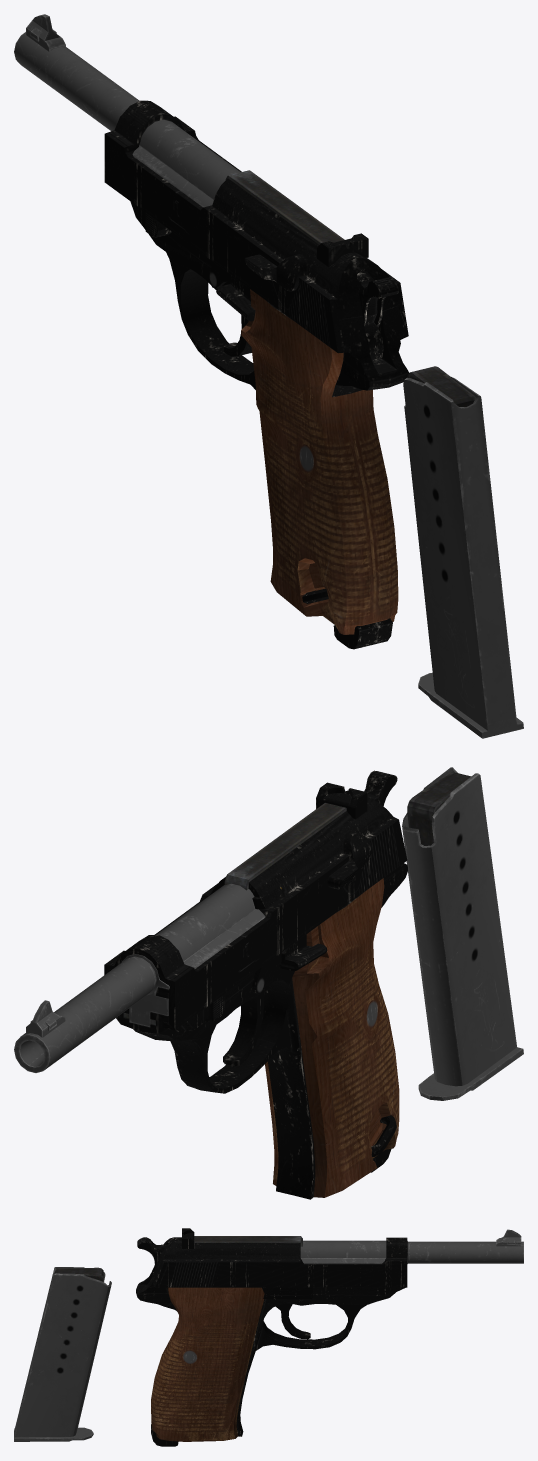
3 renders of one model, top to bottom at view 1: azimuth 30°, elevation 25°; view 2: azimuth 150°, elevation 25°; view 3: azimuth 270°, elevation 25°, orthographic. The views are drawn at different scales.
Parts seen in each view (by area): view 1: frame, mag, Barrel, hammer; view 2: frame, mag, Barrel, trigger, hammer; view 3: frame, mag, Barrel, trigger, hammer.
Part boxes in pixels (<box>): frame: <box>104,100,408,649</box>; mag: <box>403,366,523,738</box>; Barrel: <box>14,14,240,207</box>; hammer: <box>357,272,398,361</box>; frame: <box>104,782,407,1199</box>; mag: <box>402,767,523,1100</box>; Barrel: <box>14,883,265,1072</box>; trigger: <box>223,985,268,1065</box>; hammer: <box>364,770,397,806</box>; frame: <box>136,1228,407,1446</box>; mag: <box>14,1267,111,1441</box>; Barrel: <box>300,1229,523,1263</box>; trigger: <box>276,1303,310,1339</box>; hammer: <box>137,1237,166,1276</box>.
Bounding box in the file's own units: 10.49 × 45.97 × 99.96.
